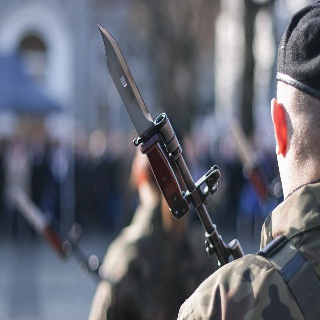rifle: (96, 23, 245, 268)
